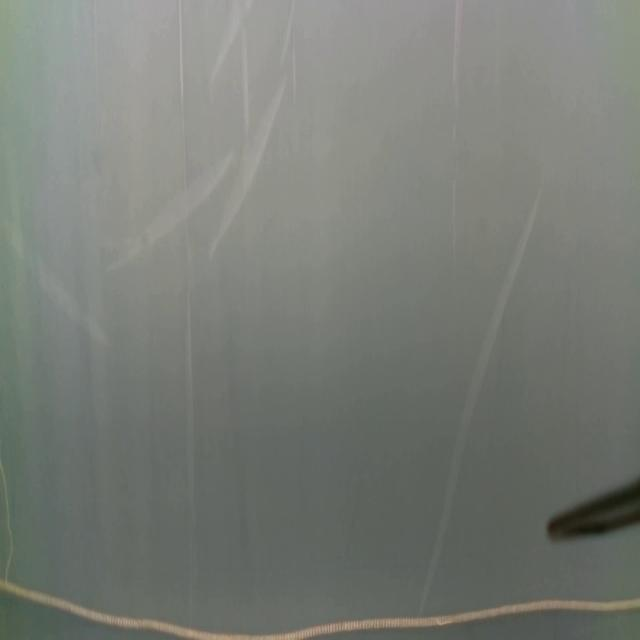crease: (418, 191, 542, 617), (108, 148, 231, 270), (3, 218, 110, 349), (212, 88, 290, 262), (184, 289, 200, 619), (448, 0, 464, 266), (209, 0, 252, 87), (176, 0, 190, 183), (240, 27, 252, 135), (279, 0, 298, 64), (291, 32, 300, 98)
